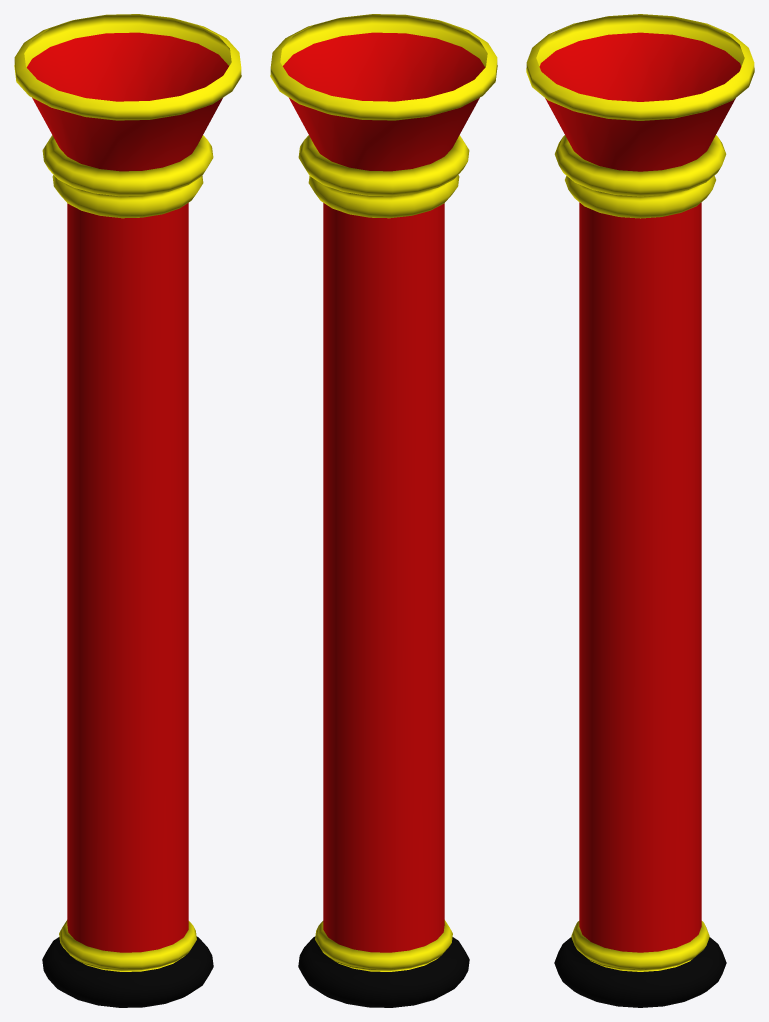
The model's file is Pillar.fbx.
3 renders of one model, left to right at view 1: azimuth 30°, elevation 25°; view 2: azimuth 150°, elevation 25°; view 3: azimuth 270°, elevation 25°, orthographic.
Visible parts, largest first — view 1: Bottom, Top; view 2: Bottom, Top; view 3: Bottom, Top.
Part boxes in pixels (x1,y1,x2,y2): Bottom: (42,203,213,1007); Top: (14,14,241,218); Bottom: (298,203,469,1007); Top: (270,14,497,218); Bottom: (554,202,726,1007); Top: (526,14,754,218).
Size of the model in its own units: 0.0112 by 0.05 by 0.0112.
Materials: 2 (1 with a texture image).
